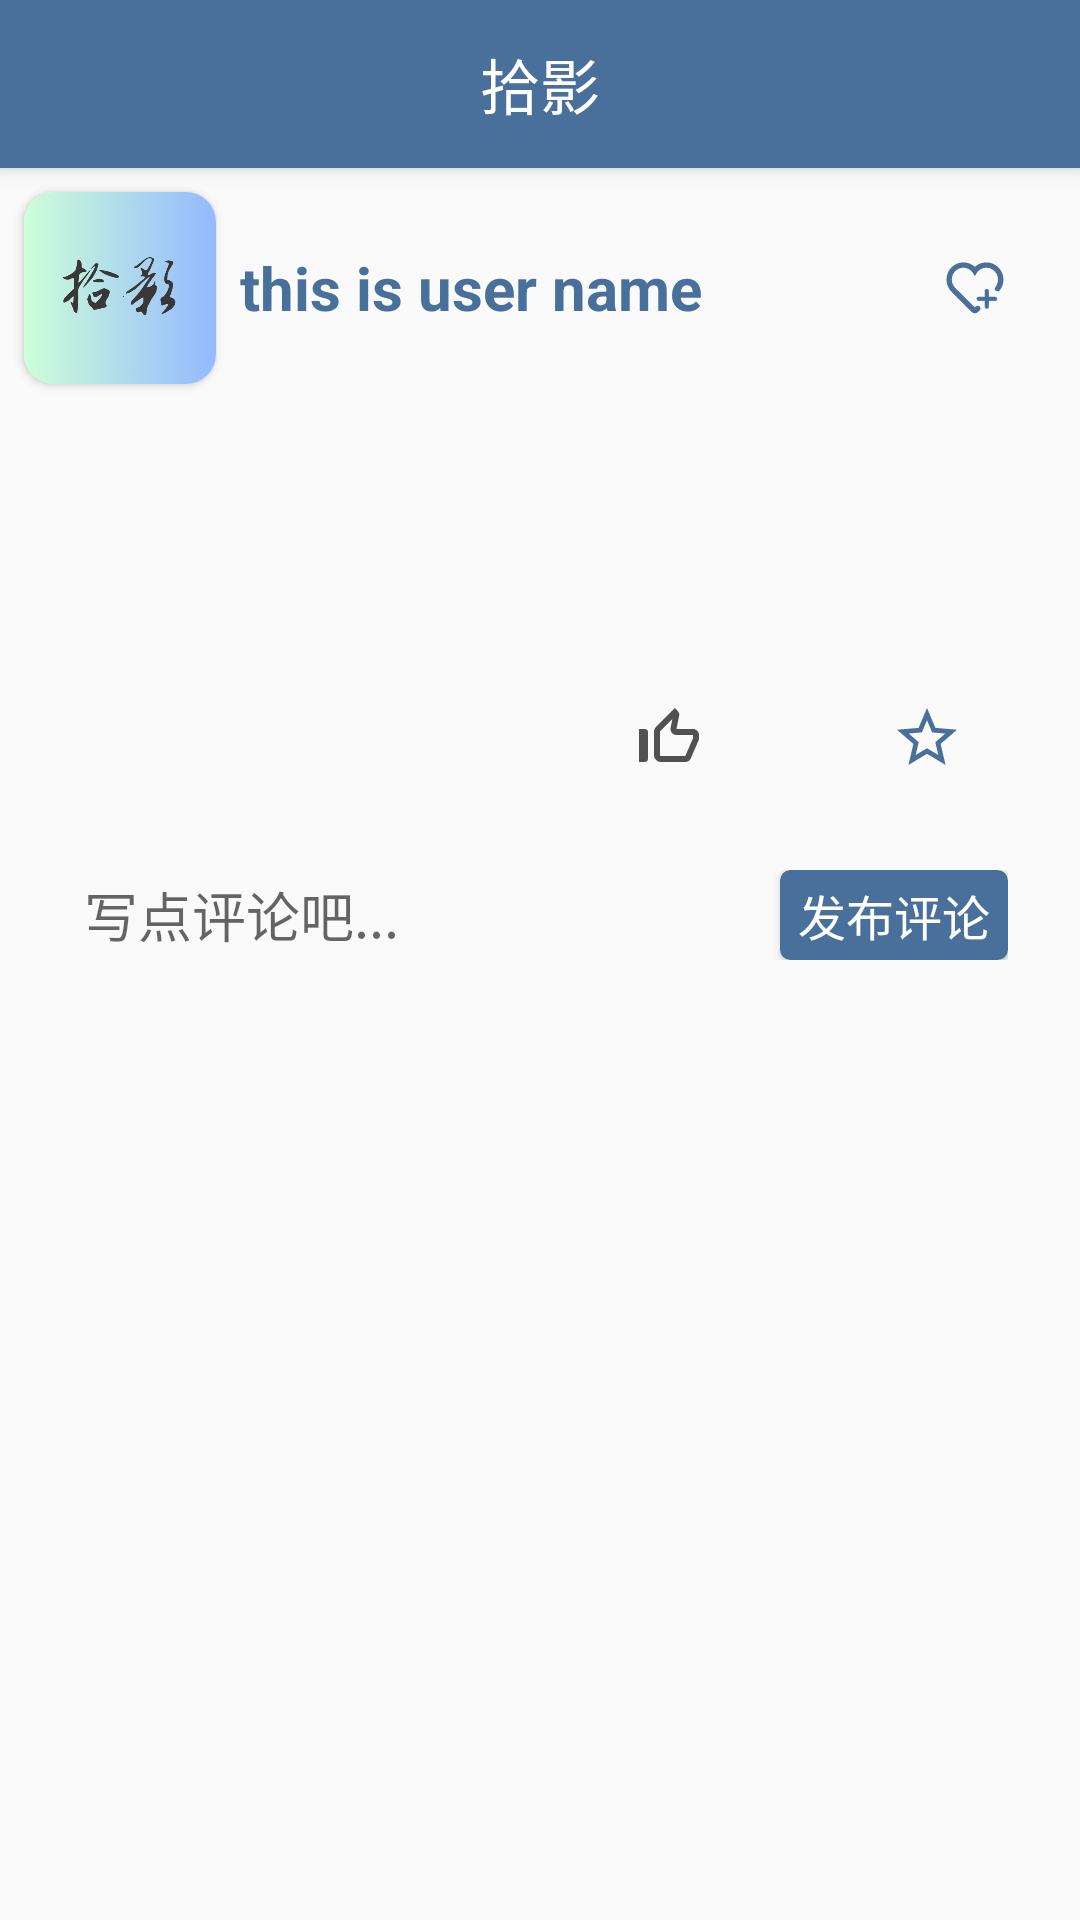

Where icons sit on this 1080 × 1920 app screen, as rect(x1, y1, x2, y2):
attention: rect(946, 262, 1004, 314)
star border: rect(897, 708, 957, 765)
thumb up off: rect(639, 708, 699, 762)
